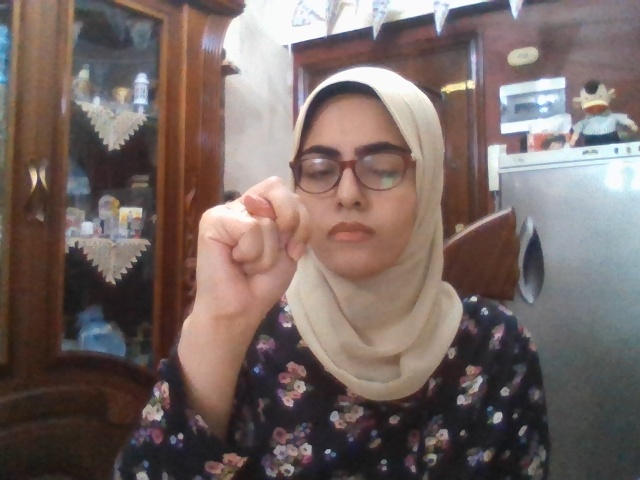N: (197, 175, 312, 321)
